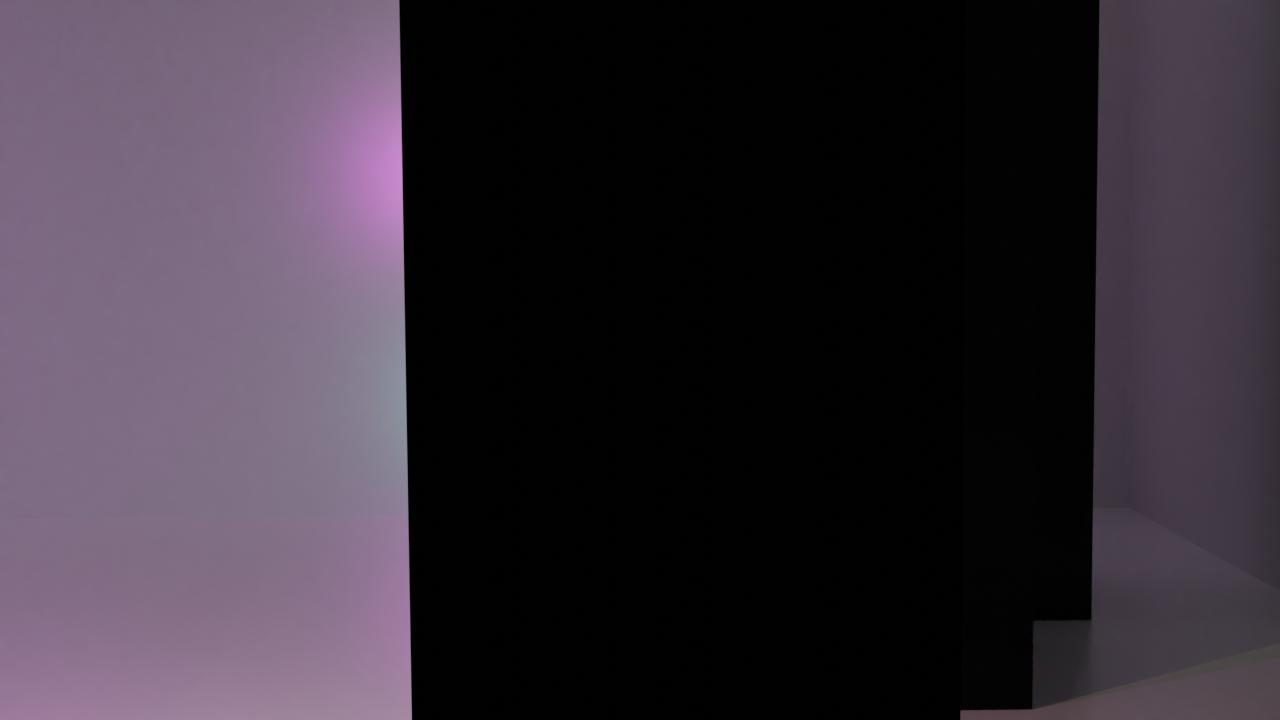CLASSIFIER_NAME: (0, 271, 8, 720)
